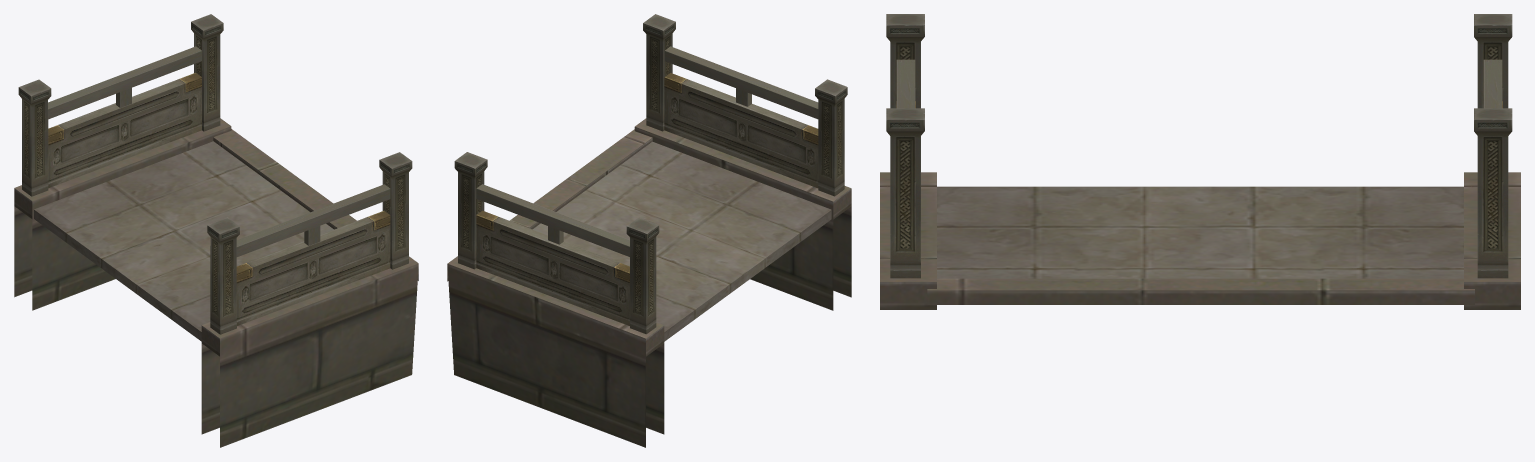
The model's file is s7_qianchongta_neibu_jianzhu001_qiao.FBX.
3 renders of one model, left to right at view 1: azimuth 30°, elevation 25°; view 2: azimuth 150°, elevation 25°; view 3: azimuth 270°, elevation 25°, orthographic. The views are drawn at different scales.
Parts seen in each view (by area): view 1: Object01xcxcxc; view 2: Object01xcxcxc; view 3: Object01xcxcxc.
Part boxes in pixels (x1,y1,x2,y2): Object01xcxcxc: (14, 14, 418, 447); Object01xcxcxc: (447, 14, 851, 447); Object01xcxcxc: (880, 14, 1520, 309).
Size of the model in its own units: 3.73 by 4.23 by 6.62.
